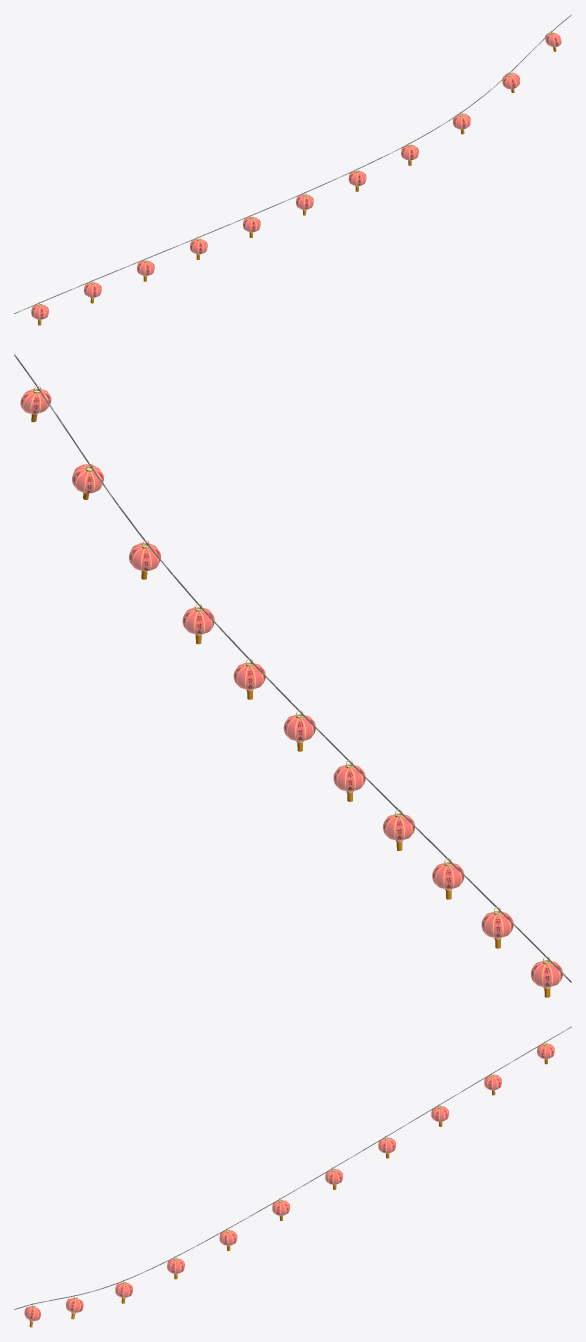
Rendered from SM_lamp_spline_Splines_32.fbx.
The picture shows the model from 3 angles, top to bottom: view 1: azimuth 90°, elevation 25°; view 2: azimuth 150°, elevation 25°; view 3: azimuth 270°, elevation 25°; orthographic projection. The views are drawn at different scales.
Parts seen in each view (by area): view 1: SM_lamp_spline_Splines_32; view 2: SM_lamp_spline_Splines_32; view 3: SM_lamp_spline_Splines_32.
Boxes of the visible parts, <box> form: SM_lamp_spline_Splines_32: <box>14,14,571,325</box>; SM_lamp_spline_Splines_32: <box>14,354,571,997</box>; SM_lamp_spline_Splines_32: <box>14,1026,571,1327</box>.
Size of the model in its own units: 2089 by 1693 by 202.
